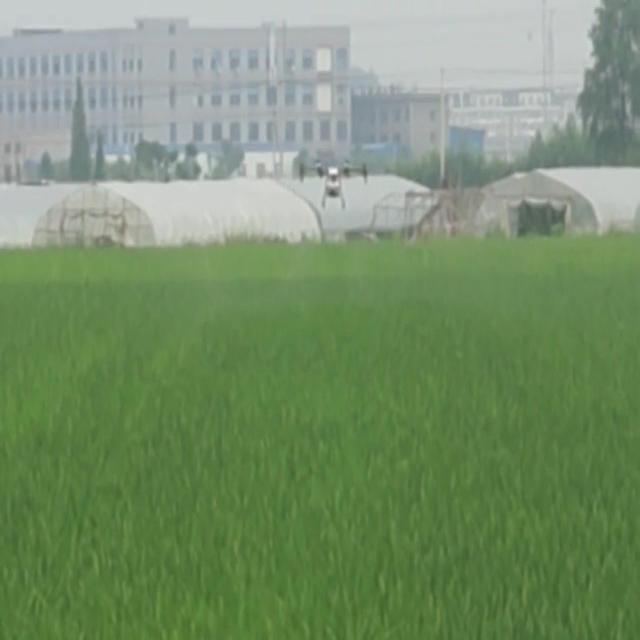drone: (294, 158, 377, 210)
